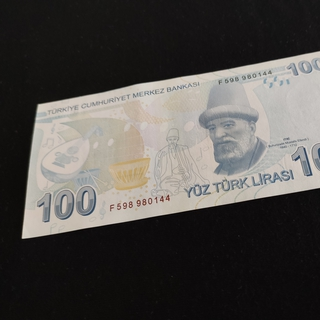100TLBack: (21, 48, 320, 241)
